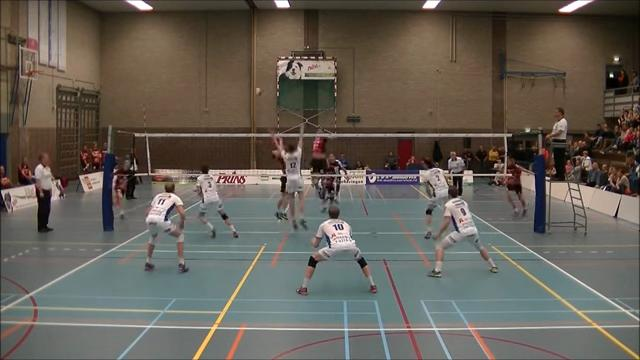alzata: (265, 127, 293, 222)
muro: (263, 120, 317, 237)
